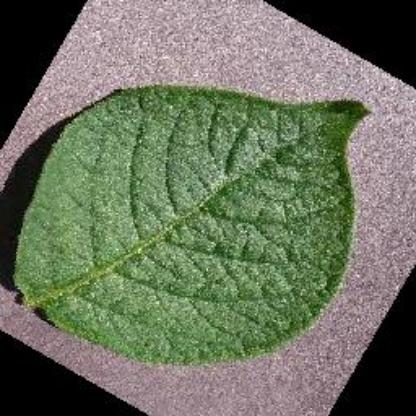Healthy-plant: (3, 24, 393, 384)
